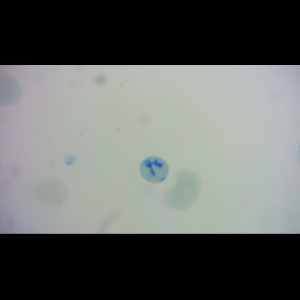aggregate reticulocyte: (138, 154, 170, 184)
erythrocyte: (164, 169, 204, 210), (33, 175, 70, 208)
